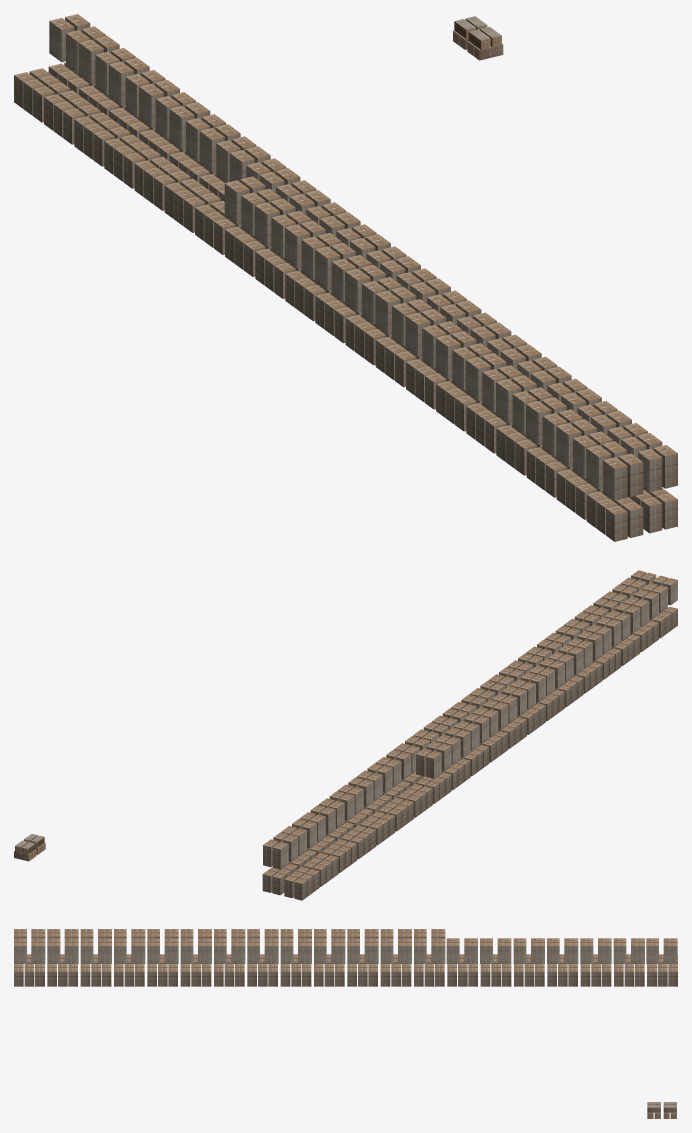
File: shuidai.FBX
3 renders of one model, top to bottom at view 1: azimuth 30°, elevation 25°; view 2: azimuth 150°, elevation 25°; view 3: azimuth 270°, elevation 25°, orthographic. The views are drawn at different scales.
Visible parts, largest first — view 1: Box7361, 对象11, Box6703, 对象12, Box8961; view 2: Box7361, 对象11, Box6703, 对象12; view 3: 对象11, 对象12, Box6703, Box7361.
Part boxes in pixels (box(x1,y1,x2,y2)): Box7361: box(14, 68, 643, 541); 对象11: box(49, 14, 677, 492); Box6703: box(224, 176, 643, 500); 对象12: box(48, 62, 677, 533); Box8961: box(467, 26, 503, 60); Box7361: box(284, 606, 677, 900); 对象11: box(263, 570, 656, 869); Box6703: box(416, 575, 677, 778); 对象12: box(262, 771, 425, 895); 对象11: box(14, 938, 677, 963); 对象12: box(14, 964, 677, 986); Box6703: box(14, 929, 445, 938); Box7361: box(27, 954, 677, 963).
Size of the model in its own units: 15.15 by 34.13 by 3.7.
